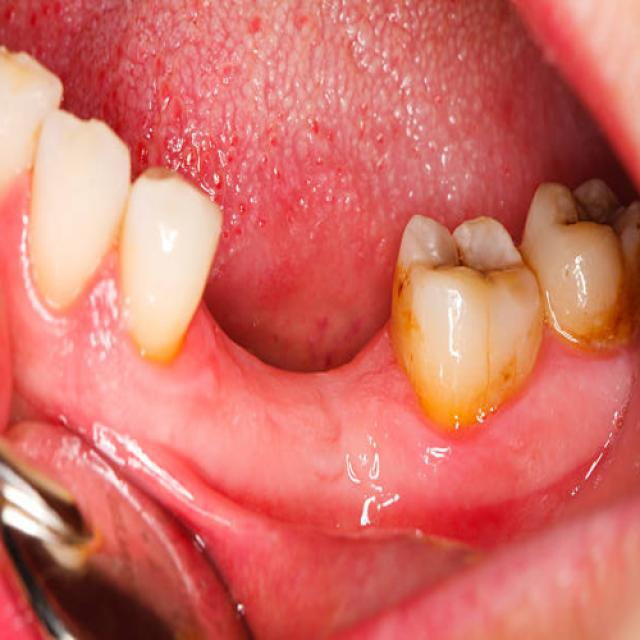Missing: (126, 177, 537, 443)
